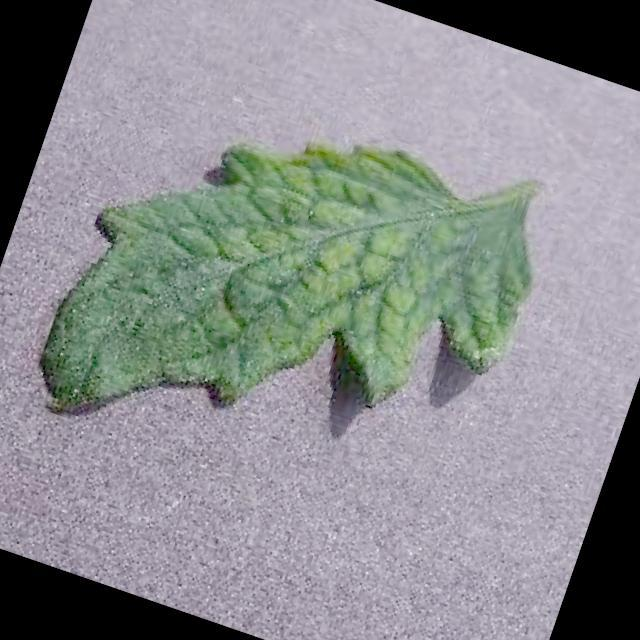Tomato mosaic virus leaf: (25, 58, 562, 543)
